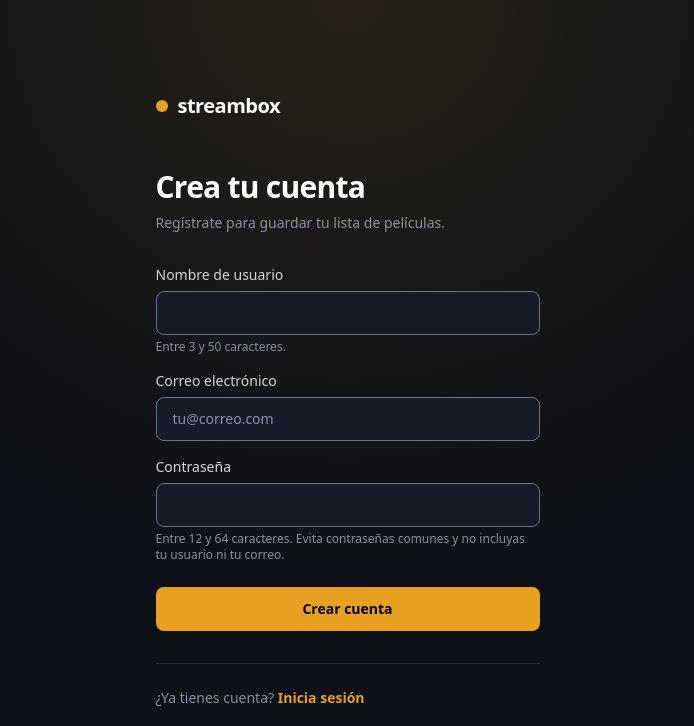
Scenario: RegisterPage: validación en el cliente › la ayuda describe el campo; con error se sustituye por el error (no se repiten) y vuelve al corregir
The width and height of the screenshot is (694, 726).
expect the text "Entre 3 y 50 caracteres." is shown: met, box [156,338,286,355]
Click the button "Crear cuenta" at (348, 609), box [156,587,540,631]
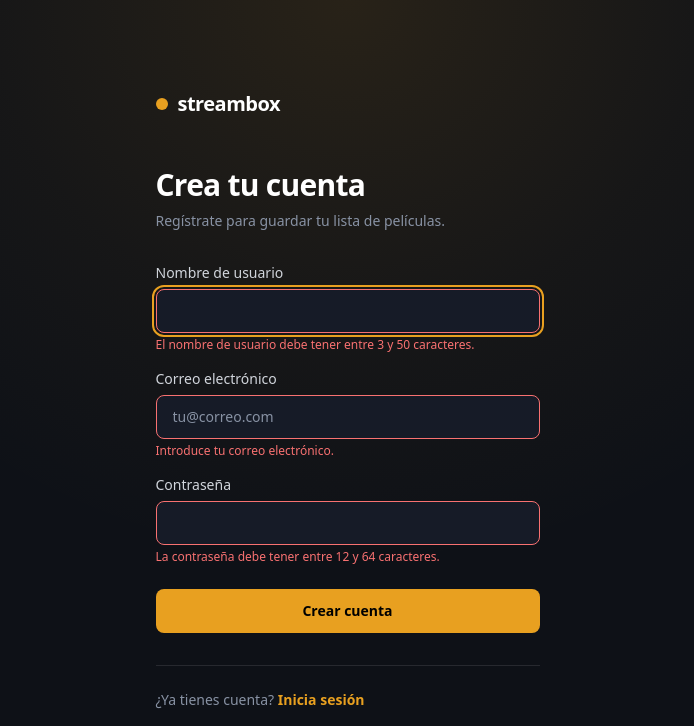
expect the text "Entre 12 y 64 caracteres. Evita contraseñas comunes y no incluyas tu usuario ni tu correo." is gone: met
expect the text "El nombre de usuario debe tener entre 3 y 50 caracteres." is shown: met, box [156,336,474,353]
Type "a" into the field labelled "Nombre de usuario" at (348, 311), box [156,289,540,333]
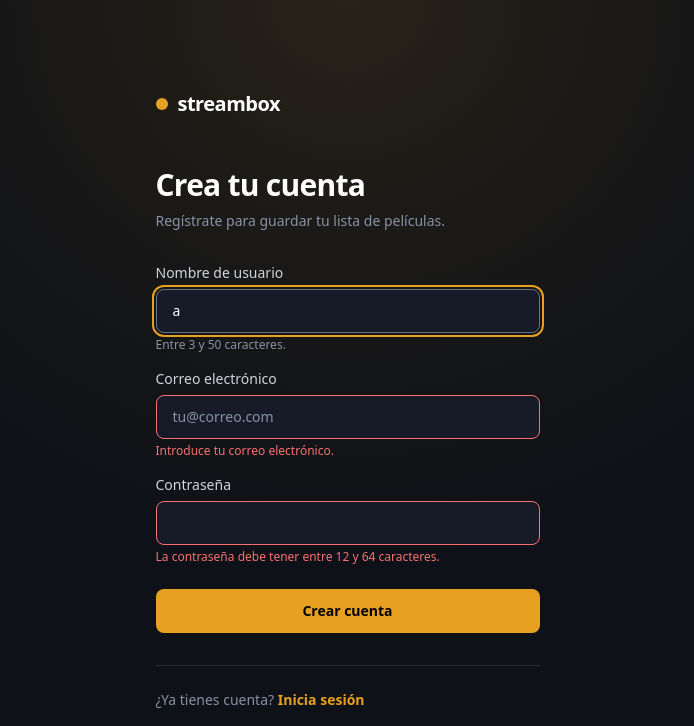
expect the text "El nombre de usuario debe tener entre 3 y 50 caracteres." is gone: met
